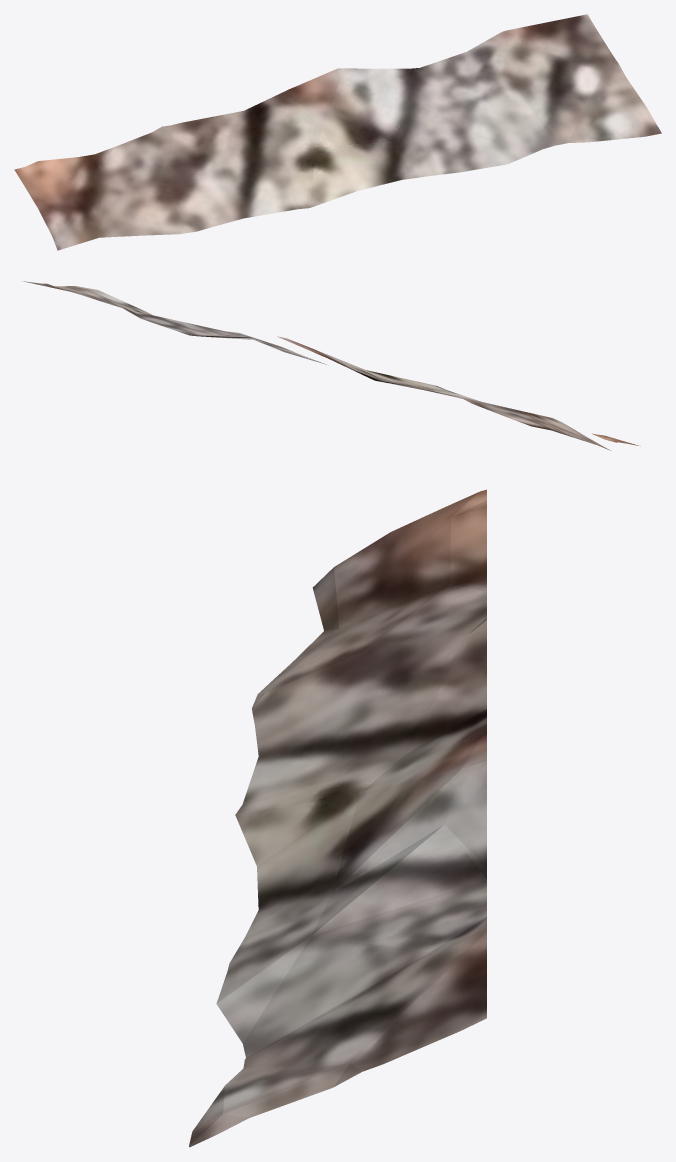
3 renders of one model, top to bottom at view 1: azimuth 30°, elevation 25°; view 2: azimuth 150°, elevation 25°; view 3: azimuth 270°, elevation 25°, orthographic. The views are drawn at different scales.
Bounding box in the file's own units: 0.8374 × 0.0996 × 0.1885.
1 material, 1 textured.
